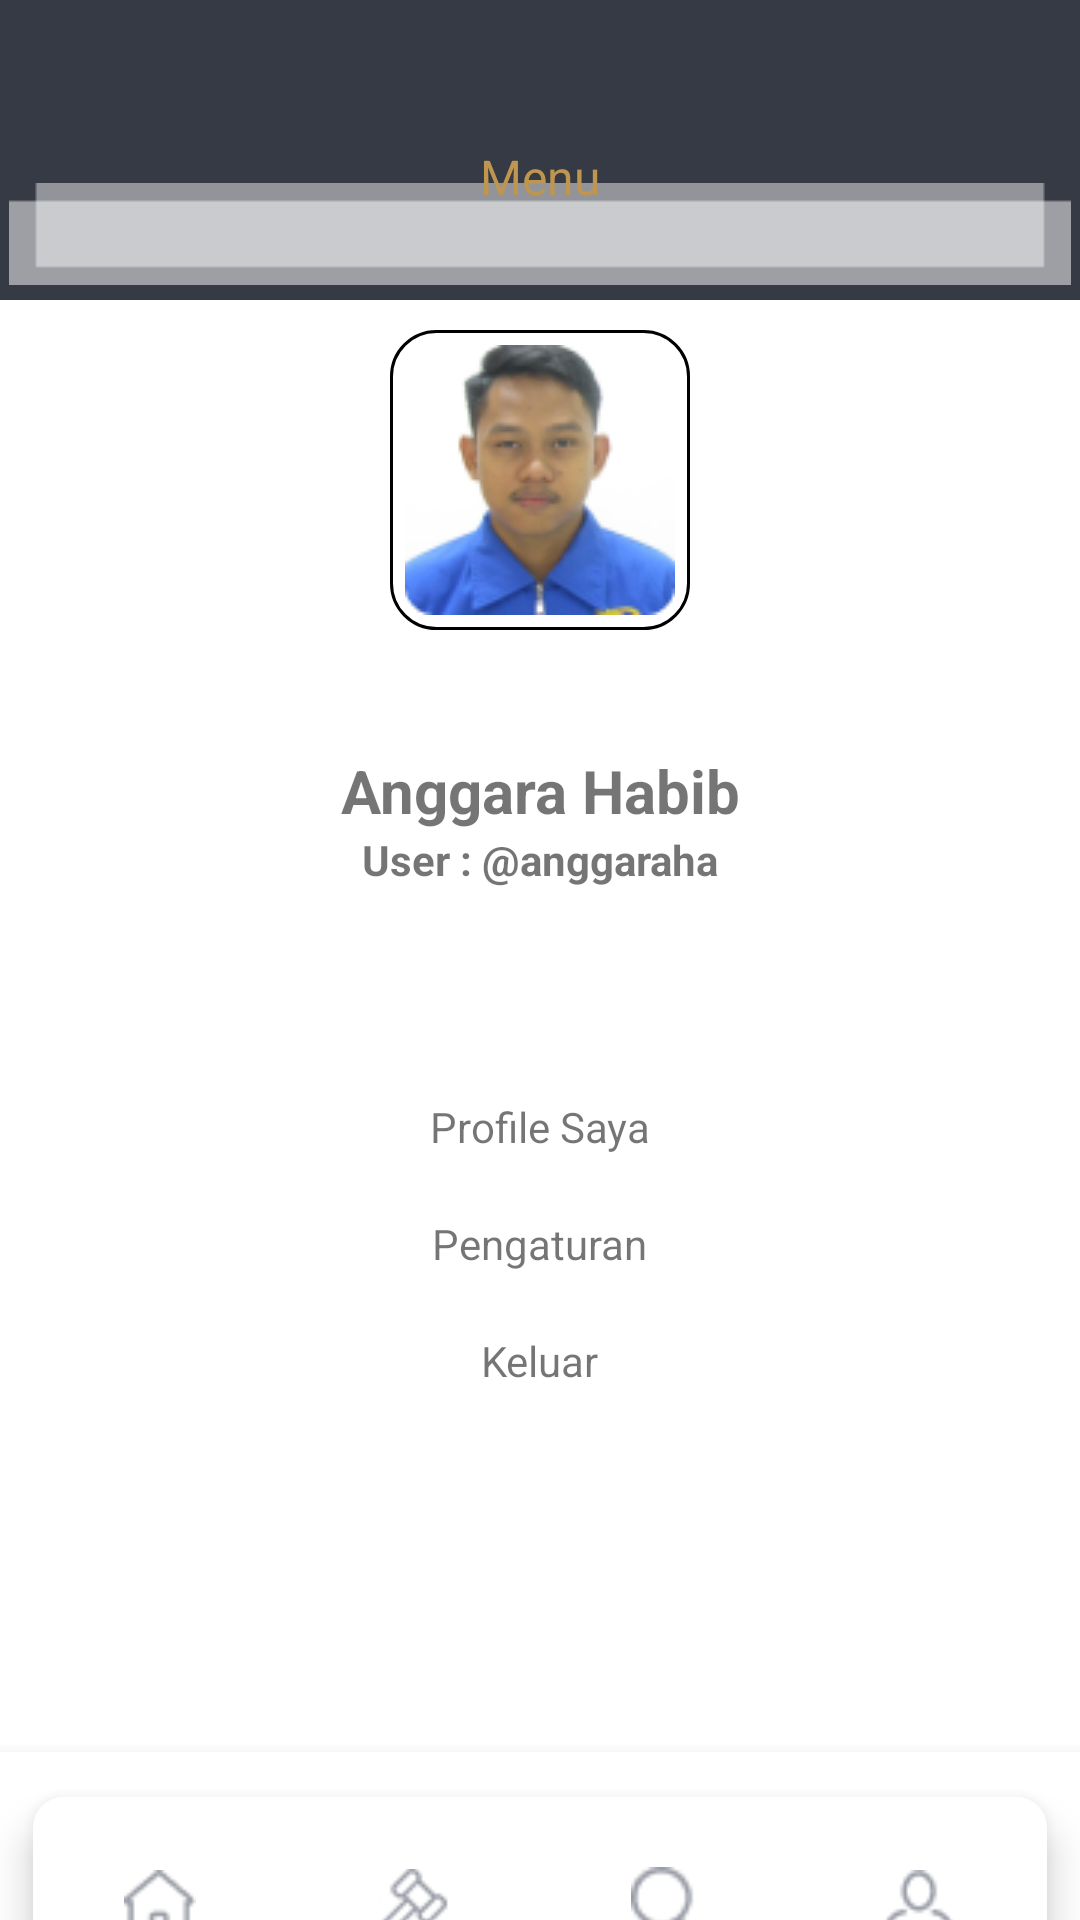

Screen size 1080px x 1920px. Icon name, then its box in pixels as (x1, y1, x2, y2):
userpic: (390, 330, 690, 630)
